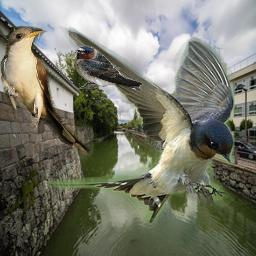Cuckoo: (0, 26, 92, 158)
Swallow: (48, 25, 235, 223), (72, 45, 143, 92)
